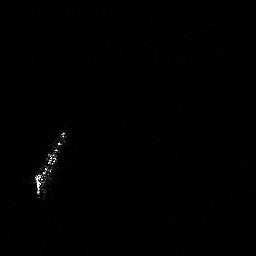ship: (29, 124, 72, 203)
